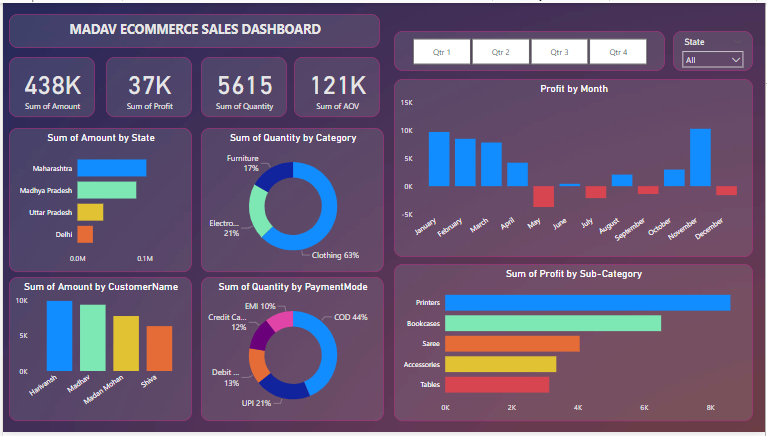

This screenshot's page, from the dashboard's own definition file:
{"tool":"powerbi","page":{"name":"Page 1","canvas":[1280,720],"ordinal":0},"visuals":[{"type":"textbox","box":[10.1,18.5,623.2,57.1],"z":0},{"type":"clusteredColumnChart","title":"Profit by Month","fields":{"Y":["Sum(Details.Profit)"],"Category":["Orders.Order Date.Variation.Date Hierarchy.Month"]},"box":[656.8,127.7,603,299],"z":1000},{"type":"barChart","fields":{"Category":["Details.Sub-Category"],"Y":["Sum(Details.Profit)"]},"box":[656.8,438.4,603,263.7],"z":2000},{"type":"donutChart","fields":{"Category":["Details.Category"],"Y":["Sum(Details.Quantity)"]},"box":[332.6,210,307.4,241.9],"z":3000},{"type":"donutChart","fields":{"Category":["Details.PaymentMode"],"Y":["Sum(Details.Quantity)"]},"box":[332.6,460.3,307.4,241.9],"z":4000},{"type":"card","fields":{"Values":["Sum(Details.Profit)"]},"box":[173,90.7,144.5,100.8],"z":5000},{"type":"card","fields":{"Values":["Sum(Details.Amount)"]},"box":[10.1,90.7,144.5,100.8],"z":6000},{"type":"card","fields":{"Values":["Sum(Details.Quantity)"]},"box":[332.6,90.7,144.5,100.8],"z":7000},{"type":"card","fields":{"Values":["Sum(Details.AOV)"]},"box":[488.8,90.7,144.5,100.8],"z":8000},{"type":"barChart","fields":{"Y":["Sum(Details.Amount)"],"Category":["Orders.State"]},"box":[10.1,210,307.4,241.9],"z":9000},{"type":"columnChart","fields":{"Category":["Orders.CustomerName"],"Y":["Sum(Details.Amount)"]},"box":[10.1,460.3,307.4,241.9],"z":10000},{"type":"slicer","fields":{"Values":["Orders.Order Date.Variation.Date Hierarchy.Quarter"]},"box":[656.8,47,455.2,67.2],"z":11000},{"type":"slicer","fields":{"Values":["Orders.State"]},"box":[1125.5,47,134.4,67.2],"z":12000}]}

Visuals, with their boxes in screenshot pixels (x1, y1, x2, y2), scaled from the page's 1280x720 canvas onto the 767x436 screenshot:
textbox: BBox(6, 11, 379, 46)
"Profit by Month" clusteredColumnChart: BBox(394, 77, 755, 258)
barChart - Details.Sub-Category x Sum(Details.Profit): BBox(394, 265, 755, 425)
donutChart - Details.Category x Sum(Details.Quantity): BBox(199, 127, 384, 274)
donutChart - Details.PaymentMode x Sum(Details.Quantity): BBox(199, 279, 384, 425)
card - Sum(Details.Profit): BBox(104, 55, 190, 116)
card - Sum(Details.Amount): BBox(6, 55, 93, 116)
card - Sum(Details.Quantity): BBox(199, 55, 286, 116)
card - Sum(Details.AOV): BBox(293, 55, 379, 116)
barChart - Sum(Details.Amount) x Orders.State: BBox(6, 127, 190, 274)
columnChart - Orders.CustomerName x Sum(Details.Amount): BBox(6, 279, 190, 425)
slicer - Orders.Order Date.Variation.Date Hierarchy.Quarter: BBox(394, 28, 666, 69)
slicer - Orders.State: BBox(674, 28, 755, 69)
